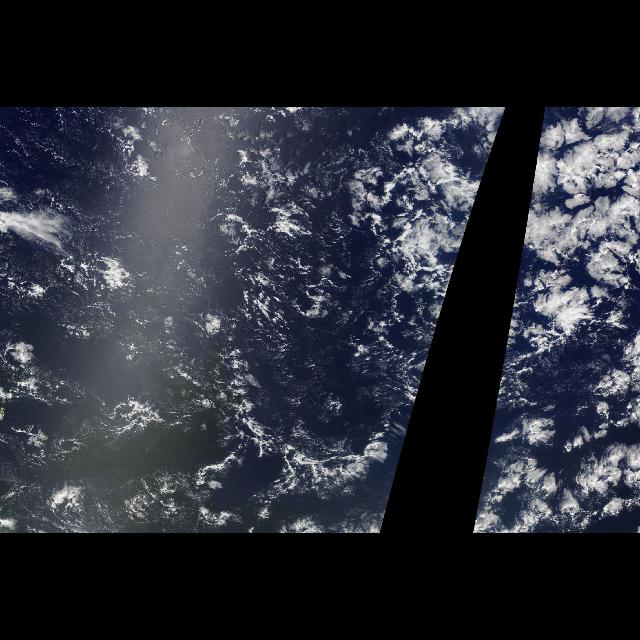Flower: (500, 108, 640, 364), (414, 108, 506, 364), (495, 407, 639, 533)
Gravel: (46, 109, 444, 534)
